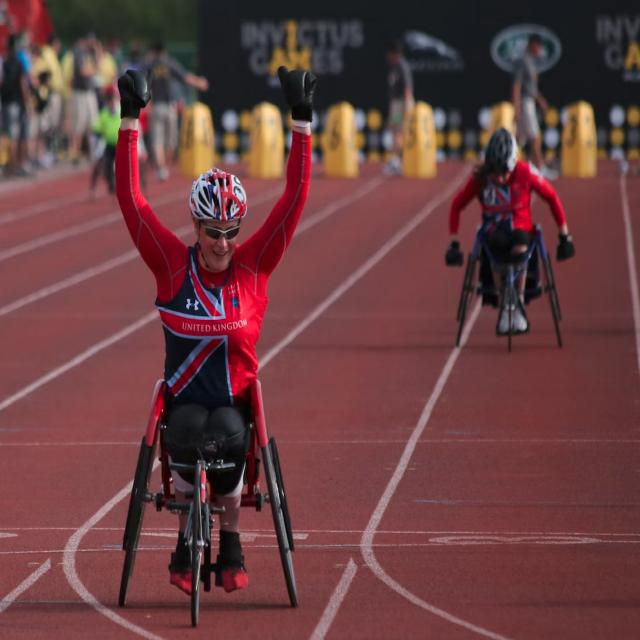wheelchairs: (114, 378, 317, 623), (452, 234, 571, 356)
